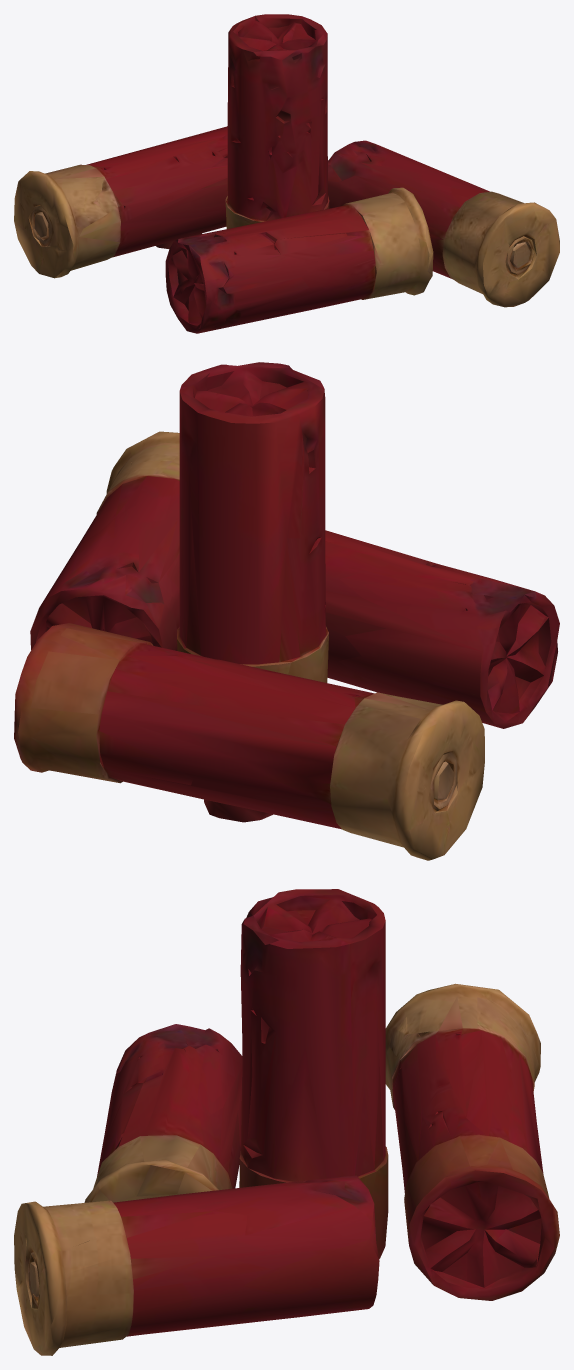
Rendered from ammo_shells_kartech_idle.glb.
3 renders of one model, top to bottom at view 1: azimuth 30°, elevation 25°; view 2: azimuth 150°, elevation 25°; view 3: azimuth 270°, elevation 25°, orthographic. The views are drawn at different scales.
Parts seen in each view (by area): view 1: tripo_node_dcbcb28f-0e2d-4791-be61-7a84e10783df; view 2: tripo_node_dcbcb28f-0e2d-4791-be61-7a84e10783df; view 3: tripo_node_dcbcb28f-0e2d-4791-be61-7a84e10783df.
Boxes of the visible parts, left/top/right/bottom form: tripo_node_dcbcb28f-0e2d-4791-be61-7a84e10783df: left=14, top=14, right=559, bottom=333; tripo_node_dcbcb28f-0e2d-4791-be61-7a84e10783df: left=14, top=362, right=559, bottom=860; tripo_node_dcbcb28f-0e2d-4791-be61-7a84e10783df: left=14, top=889, right=559, bottom=1355.
Size of the model in its own units: 0.0801 by 0.0481 by 0.071.
1 material, 1 textured.
